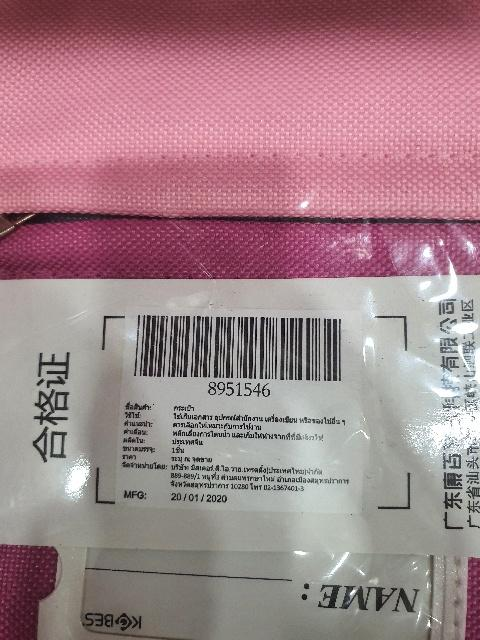Barcode: (126, 304, 356, 399)
